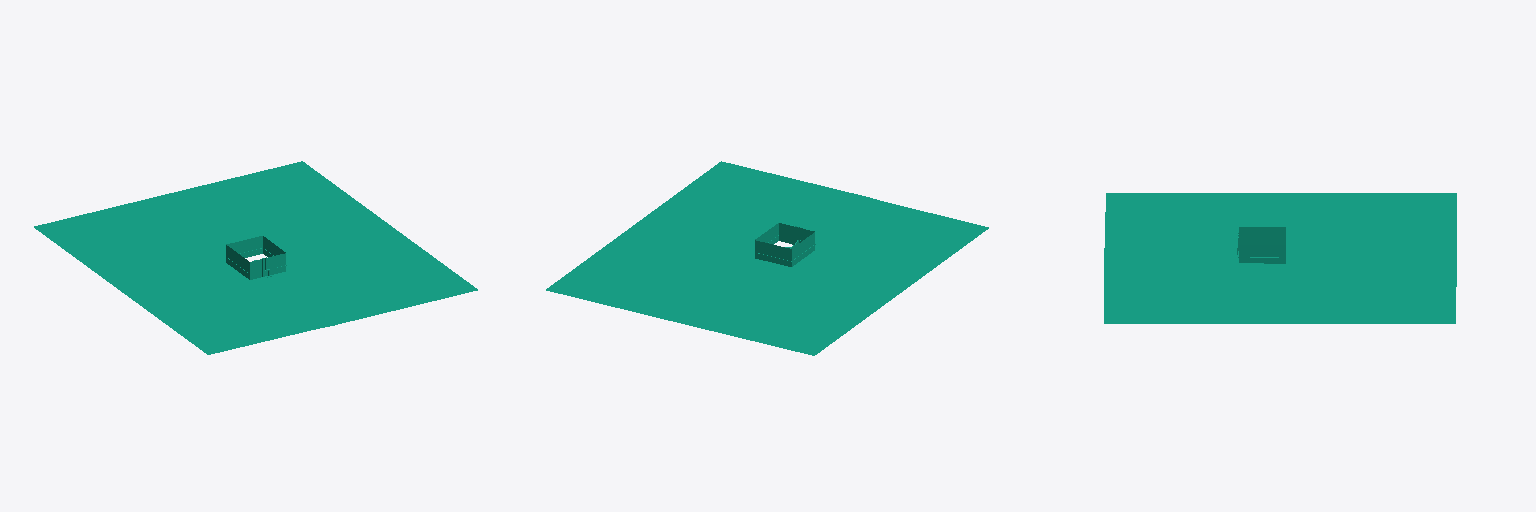
File: level-rooms.obj
3 renders of one model, left to right at view 1: azimuth 30°, elevation 25°; view 2: azimuth 150°, elevation 25°; view 3: azimuth 270°, elevation 25°, orthographic.
Parts seen in each view (by area): view 1: outer_floor, outer_walls; view 2: outer_floor, outer_walls; view 3: outer_floor, outer_walls.
Part boxes in pixels (bbox=[...]): outer_floor: bbox=[34, 161, 477, 354]; outer_walls: bbox=[226, 236, 286, 279]; outer_floor: bbox=[546, 161, 988, 355]; outer_walls: bbox=[754, 223, 815, 266]; outer_floor: bbox=[1104, 193, 1456, 323]; outer_walls: bbox=[1235, 227, 1286, 263].
Bounding box in the file's own units: 7497 × 863 × 8503.